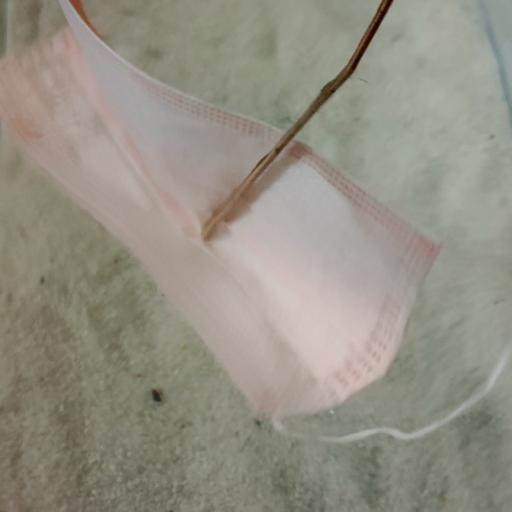mask: (0, 2, 449, 443)
